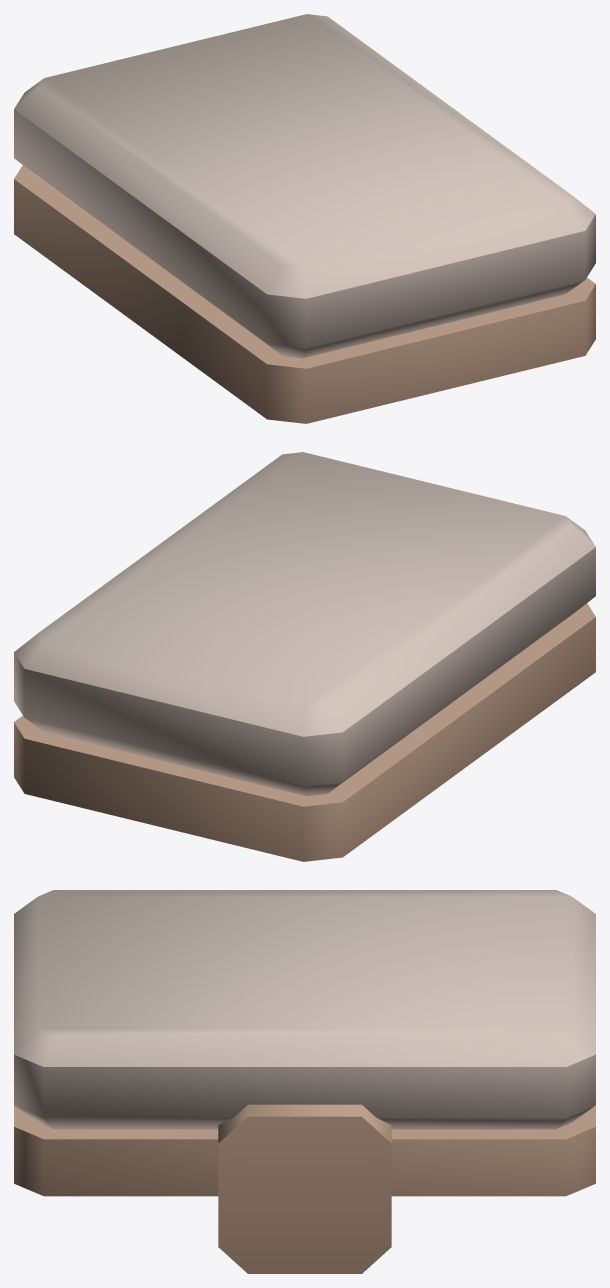
Rendered from cat-shelf-bed-rectangle (%wall).glb.
The picture shows the model from 3 angles, top to bottom: view 1: azimuth 30°, elevation 25°; view 2: azimuth 150°, elevation 25°; view 3: azimuth 270°, elevation 25°; orthographic projection. The views are drawn at different scales.
Parts seen in each view (by area): view 1: cat-shelf-bed-rectangle (%wall); view 2: cat-shelf-bed-rectangle (%wall); view 3: cat-shelf-bed-rectangle (%wall).
Part boxes in pixels (left/top/right/bottom): cat-shelf-bed-rectangle (%wall): left=14, top=14, right=595, bottom=423; cat-shelf-bed-rectangle (%wall): left=14, top=452, right=595, bottom=861; cat-shelf-bed-rectangle (%wall): left=14, top=890, right=595, bottom=1273.
Bounding box in the file's own units: 0.4425 × 0.2512 × 0.6125.
